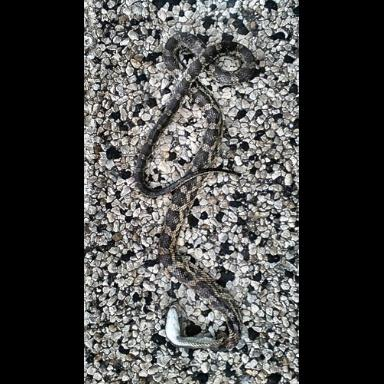snake: (136, 64, 241, 362)
